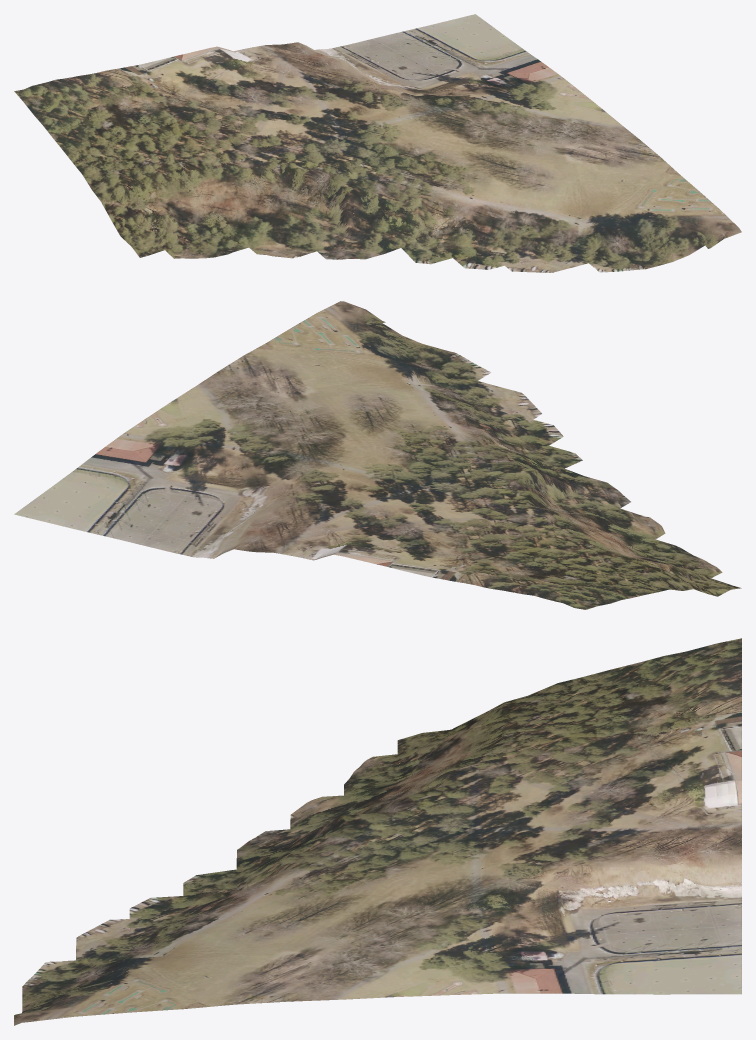
File: CM_Terrain_24486363_6820204.fbx
3 renders of one model, top to bottom at view 1: azimuth 30°, elevation 25°; view 2: azimuth 150°, elevation 25°; view 3: azimuth 270°, elevation 25°, orthographic. The views are drawn at different scales.
Parts seen in each view (by area): view 1: CM_Terrain_24486363_6820204_LOD0; view 2: CM_Terrain_24486363_6820204_LOD0; view 3: CM_Terrain_24486363_6820204_LOD0.
Boxes of the visible parts, x1=… form: CM_Terrain_24486363_6820204_LOD0: x1=14, y1=14, x2=741, y2=272; CM_Terrain_24486363_6820204_LOD0: x1=14, y1=301, x2=741, y2=609; CM_Terrain_24486363_6820204_LOD0: x1=14, y1=638, x2=741, y2=1025.
Size of what is drawn, in the model's own units: 205 by 32.78 by 205.
